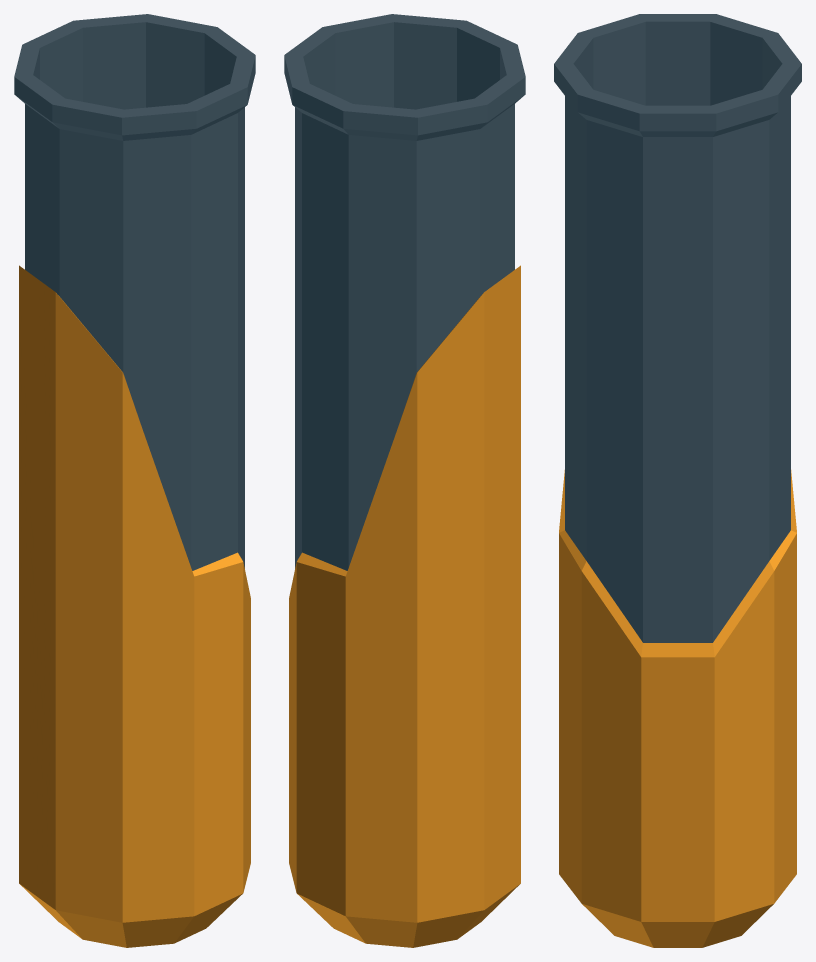
File: SM_Mixture_03.glb
The picture shows the model from 3 angles, left to right: view 1: azimuth 30°, elevation 25°; view 2: azimuth 150°, elevation 25°; view 3: azimuth 270°, elevation 25°; orthographic projection.
Parts seen in each view (by area): view 1: SM_Mixture_03; view 2: SM_Mixture_03; view 3: SM_Mixture_03.
Part boxes in pixels (box(x1,y1,x2,y2)): SM_Mixture_03: box(14, 14, 255, 947); SM_Mixture_03: box(284, 14, 525, 947); SM_Mixture_03: box(554, 14, 801, 947).
Bounding box in the file's own units: 0.0405 × 0.1617 × 0.0426.
2 materials, 1 textured.
